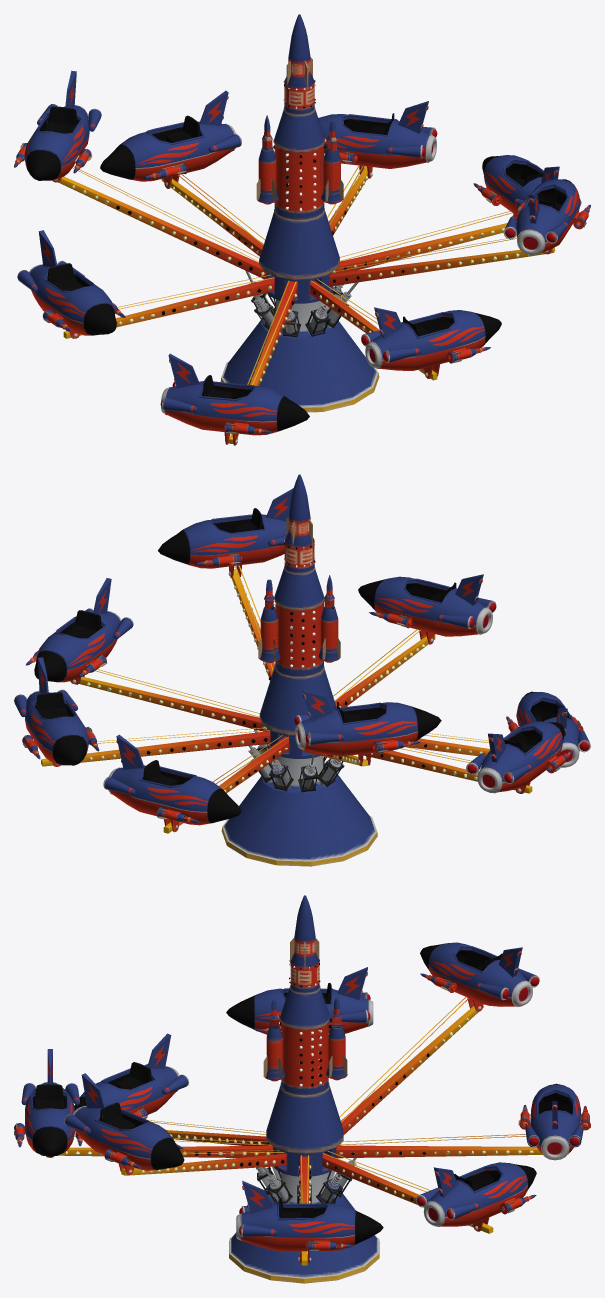
File: Rocket_Carousel_LOD1.fbx
3 renders of one model, top to bottom at view 1: azimuth 30°, elevation 25°; view 2: azimuth 150°, elevation 25°; view 3: azimuth 270°, elevation 25°, orthographic. The views are drawn at different scales.
Parts seen in each view (by area): view 1: RocketCarousel_Base, Rocket_1, Rocket_2, Rocket_6, Rocket_5, Rocket_8, Rocket_7, Rocket_3, RocketArm_7, Rocket_4, RocketArm_3, RocketArm_4 (+5 smaller); view 2: RocketCarousel_Base, Rocket_7, Rocket_2, Rocket_6, Rocket_3, Rocket_4, Rocket_8, Rocket_5, RocketArm_4, Rocket_1, RocketArm_5, RocketArm_2 (+4 smaller); view 3: RocketCarousel_Base, Rocket_4, Rocket_3, Rocket_5, Rocket_7, Rocket_2, Rocket_1, Rocket_6, Rocket_8, RocketArm_6, RocketArm_7, RocketArm_3 (+4 smaller).
Part boxes in pixels (bbox=[...]): RocketCarousel_Base: bbox=[220, 14, 379, 412]; Rocket_1: bbox=[160, 353, 309, 445]; Rocket_2: bbox=[361, 307, 501, 378]; Rocket_6: bbox=[100, 90, 241, 188]; Rocket_5: bbox=[318, 101, 437, 178]; Rocket_8: bbox=[17, 230, 125, 338]; Rocket_7: bbox=[14, 70, 101, 182]; Rocket_3: bbox=[503, 179, 590, 254]; RocketArm_7: bbox=[58, 166, 266, 279]; Rocket_4: bbox=[473, 155, 581, 213]; RocketArm_3: bbox=[329, 236, 555, 286]; RocketArm_4: bbox=[333, 211, 516, 273]; RocketCarousel_Base: bbox=[221, 474, 377, 866]; Rocket_7: bbox=[294, 689, 441, 766]; Rocket_2: bbox=[358, 574, 496, 644]; Rocket_6: bbox=[103, 734, 241, 832]; Rocket_3: bbox=[158, 488, 293, 577]; Rocket_4: bbox=[25, 578, 133, 684]; Rocket_8: bbox=[466, 721, 573, 793]; Rocket_5: bbox=[14, 657, 99, 766]; RocketArm_4: bbox=[69, 669, 266, 731]; Rocket_1: bbox=[506, 691, 590, 767]; RocketArm_5: bbox=[41, 727, 270, 766]; RocketArm_2: bbox=[333, 629, 435, 707]; RocketCarousel_Base: bbox=[229, 895, 379, 1283]; Rocket_4: bbox=[236, 1180, 383, 1263]; Rocket_3: bbox=[64, 1073, 184, 1174]; Rocket_5: bbox=[415, 1162, 536, 1231]; Rocket_7: bbox=[420, 942, 539, 1011]; Rocket_2: bbox=[14, 1049, 82, 1157]; Rocket_1: bbox=[74, 1033, 188, 1118]; Rocket_6: bbox=[518, 1083, 590, 1160]; Rocket_8: bbox=[226, 967, 373, 1034]; RocketArm_6: bbox=[336, 1134, 568, 1158]; RocketArm_7: bbox=[339, 997, 483, 1134]; RocketArm_3: bbox=[121, 1150, 286, 1175].
Size of the model in its own units: 1101 by 745 by 1096.
3 materials, 1 textured.
